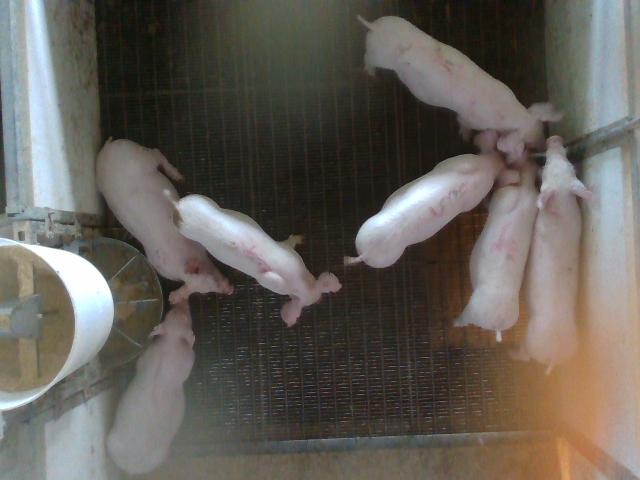pig-3: (345, 130, 520, 268)
pig-4: (454, 161, 538, 341)
pig-5: (174, 195, 341, 325)
